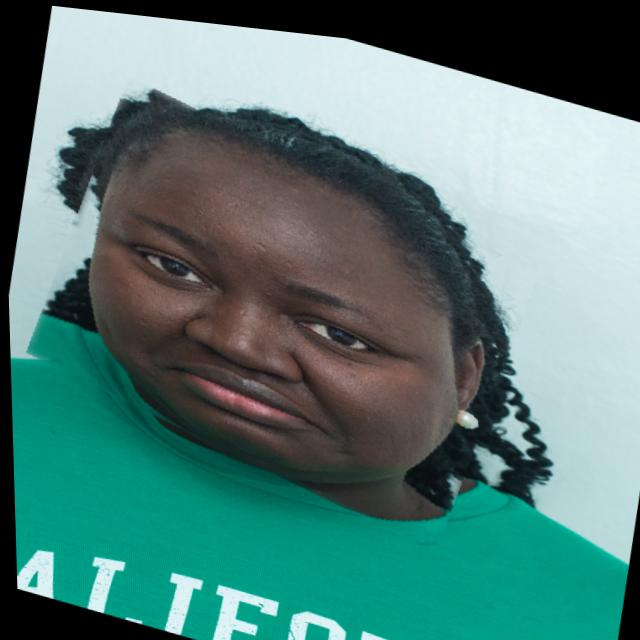sad: (19, 75, 542, 542)
